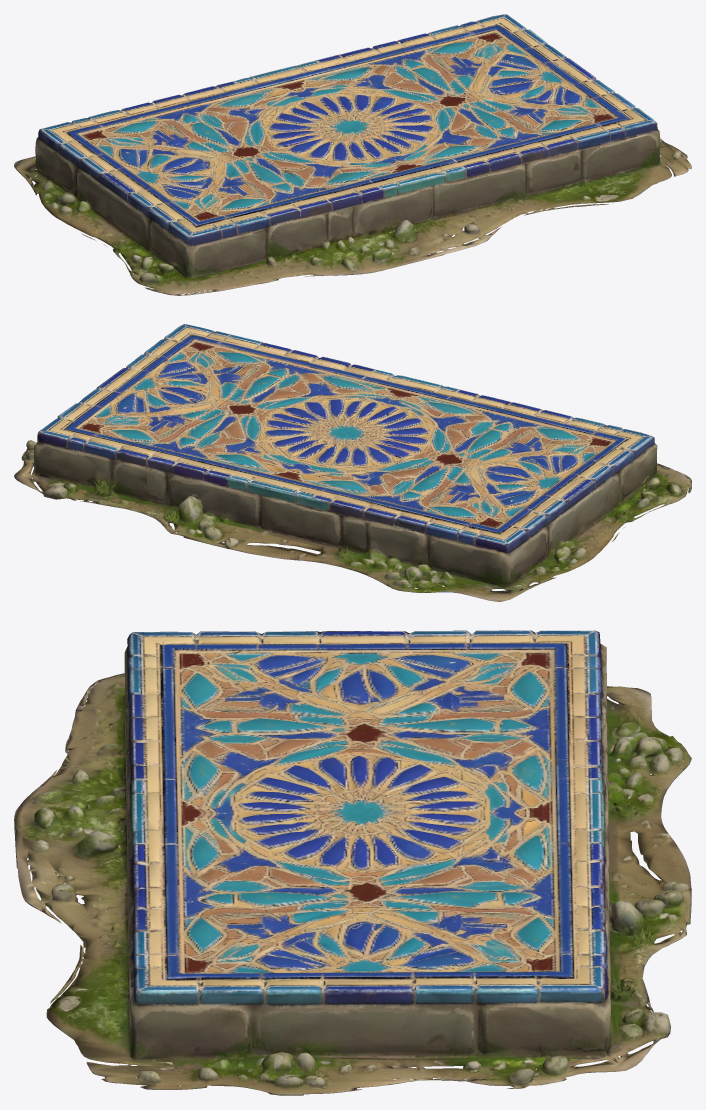
File: Blue_Star_Mosaic_Slab.fbx
3 renders of one model, top to bottom at view 1: azimuth 30°, elevation 25°; view 2: azimuth 150°, elevation 25°; view 3: azimuth 270°, elevation 25°, orthographic. The views are drawn at different scales.
Parts seen in each view (by area): view 1: Blue_Star_Mosaic_Slab_LOD0; view 2: Blue_Star_Mosaic_Slab_LOD0; view 3: Blue_Star_Mosaic_Slab_LOD0.
Boxes of the visible parts, left/top/right/bottom form: Blue_Star_Mosaic_Slab_LOD0: left=14, top=14, right=691, bottom=295; Blue_Star_Mosaic_Slab_LOD0: left=14, top=324, right=691, bottom=601; Blue_Star_Mosaic_Slab_LOD0: left=14, top=630, right=691, bottom=1095.
Size of what is drawn, in the model's own units: 1.9 by 0.1579 by 1.28.
1 material, 1 textured.
